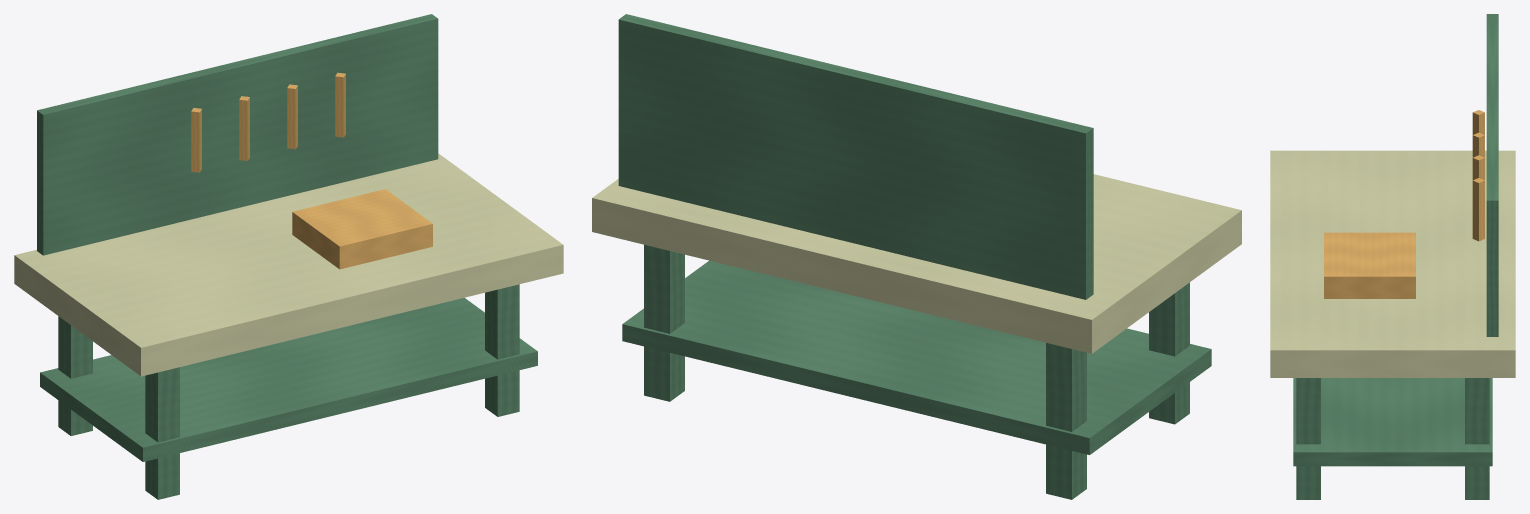
The model's file is atlas100-s008-a01.lod2.glb.
3 renders of one model, left to right at view 1: azimuth 30°, elevation 25°; view 2: azimuth 150°, elevation 25°; view 3: azimuth 270°, elevation 25°, orthographic. The views are drawn at different scales.
Parts seen in each view (by area): view 1: atlas100-s008-a01:part-004, atlas100-s008-a01:part-006, atlas100-s008-a01:part-005, atlas100-s008-a01:part-012, atlas100-s008-a01:part-003, atlas100-s008-a01:part-001, atlas100-s008-a01:part-000, atlas100-s008-a01:part-008, atlas100-s008-a01:part-009, atlas100-s008-a01:part-010, atlas100-s008-a01:part-011; view 2: atlas100-s008-a01:part-006, atlas100-s008-a01:part-005, atlas100-s008-a01:part-004, atlas100-s008-a01:part-000, atlas100-s008-a01:part-002, atlas100-s008-a01:part-001; view 3: atlas100-s008-a01:part-004, atlas100-s008-a01:part-005, atlas100-s008-a01:part-012, atlas100-s008-a01:part-006, atlas100-s008-a01:part-002, atlas100-s008-a01:part-003, atlas100-s008-a01:part-011, atlas100-s008-a01:part-009, atlas100-s008-a01:part-010, atlas100-s008-a01:part-008.
Part boxes in pixels (x1,y1,x2,y2): atlas100-s008-a01:part-004: (14, 153, 563, 376); atlas100-s008-a01:part-006: (37, 14, 438, 255); atlas100-s008-a01:part-005: (40, 297, 537, 461); atlas100-s008-a01:part-012: (292, 189, 432, 269); atlas100-s008-a01:part-003: (485, 284, 519, 416); atlas100-s008-a01:part-001: (145, 367, 179, 499); atlas100-s008-a01:part-000: (58, 316, 92, 435); atlas100-s008-a01:part-008: (191, 108, 201, 172); atlas100-s008-a01:part-009: (239, 96, 249, 160); atlas100-s008-a01:part-010: (287, 84, 297, 149); atlas100-s008-a01:part-011: (335, 72, 345, 137); atlas100-s008-a01:part-006: (618, 14, 1093, 299); atlas100-s008-a01:part-005: (622, 260, 1211, 454); atlas100-s008-a01:part-004: (592, 174, 1241, 353); atlas100-s008-a01:part-000: (1046, 343, 1086, 499); atlas100-s008-a01:part-002: (644, 244, 684, 401); atlas100-s008-a01:part-001: (1149, 282, 1189, 424); atlas100-s008-a01:part-004: (1270, 150, 1515, 377); atlas100-s008-a01:part-005: (1293, 378, 1492, 466); atlas100-s008-a01:part-012: (1324, 232, 1415, 298); atlas100-s008-a01:part-006: (1486, 14, 1498, 336); atlas100-s008-a01:part-002: (1465, 378, 1489, 499); atlas100-s008-a01:part-003: (1296, 378, 1320, 499); atlas100-s008-a01:part-011: (1472, 178, 1484, 241); atlas100-s008-a01:part-009: (1472, 132, 1484, 157); atlas100-s008-a01:part-010: (1472, 155, 1484, 180); atlas100-s008-a01:part-008: (1472, 110, 1484, 134).
Bounding box in the file's own units: 3.08 × 2.21 × 1.6.
Materials: 3 (3 with a texture image).
